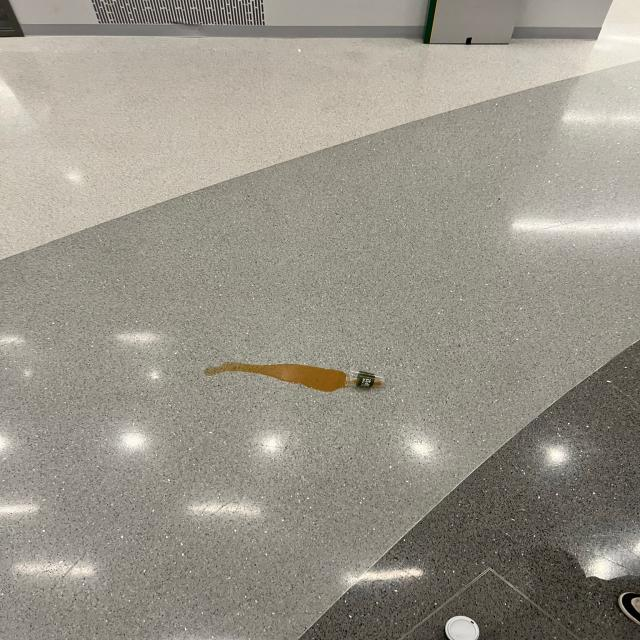cup: (346, 369, 384, 389)
spill: (205, 363, 343, 391)
